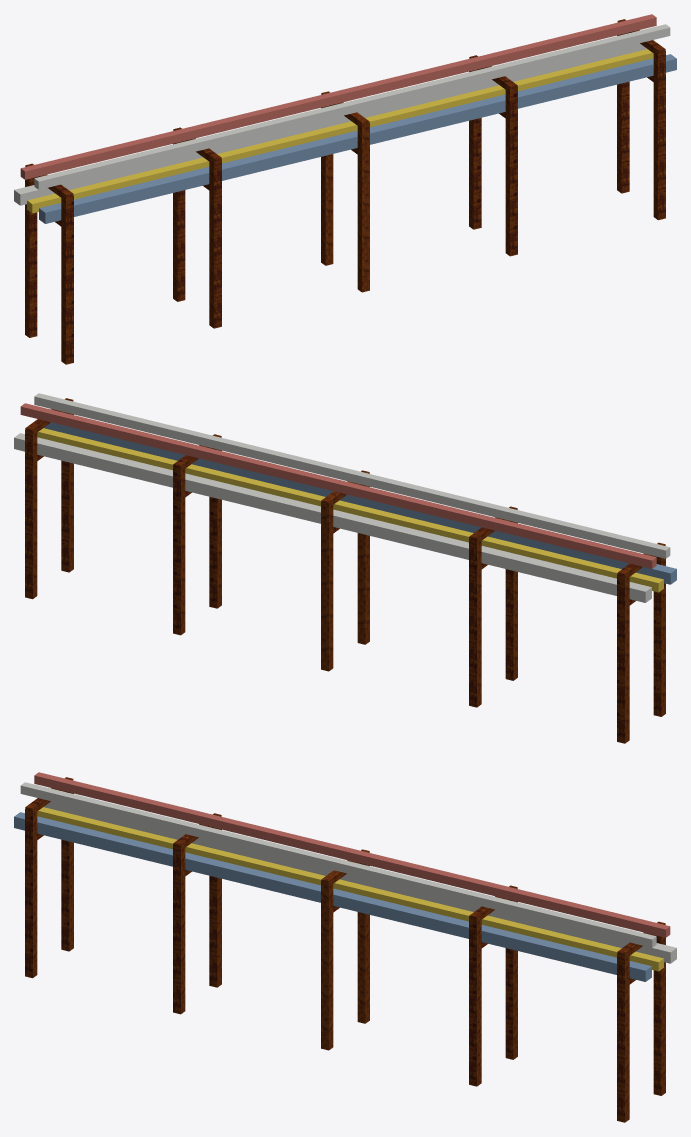
Rendered from ew-pipe-rack.works-v1.lod1.glb.
3 renders of one model, top to bottom at view 1: azimuth 30°, elevation 25°; view 2: azimuth 150°, elevation 25°; view 3: azimuth 330°, elevation 25°, orthographic.
Visible parts, largest first — view 1: ew-pipe-rack; view 2: ew-pipe-rack; view 3: ew-pipe-rack.
Part boxes in pixels (x1,y1,x2,y2): ew-pipe-rack: (14, 14, 676, 364); ew-pipe-rack: (14, 393, 676, 743); ew-pipe-rack: (14, 772, 676, 1122).
Bounding box in the file's own units: 32 × 8.65 × 3.6.
2 materials, 1 textured.
